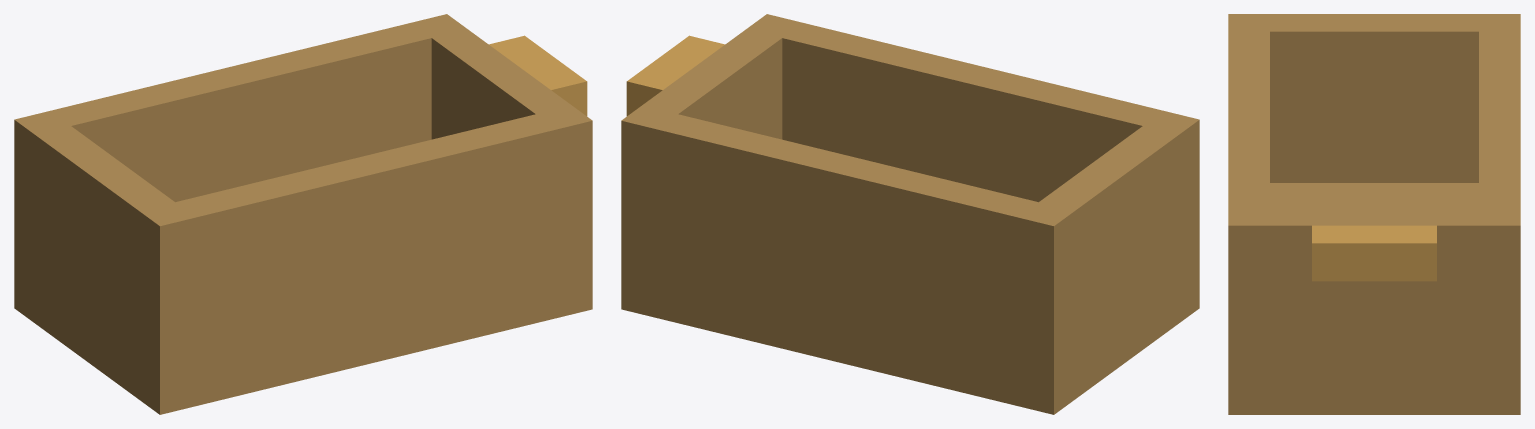
File: Cabinet00-drawer1.gltf
The picture shows the model from 3 angles, left to right: view 1: azimuth 30°, elevation 25°; view 2: azimuth 150°, elevation 25°; view 3: azimuth 270°, elevation 25°; orthographic projection.
Bounding box in the file's own units: 13 × 5 × 7.
